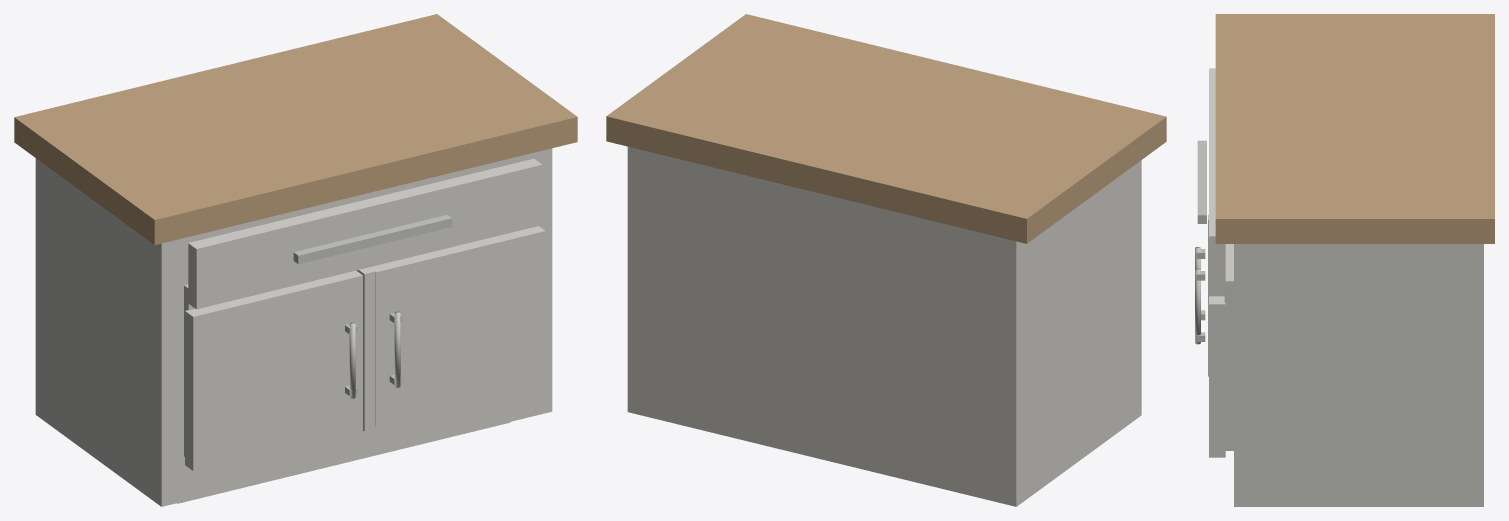
File: Lower_Kitchen_Cabinet.glb
3 views of the same model, side by side, from view 1: azimuth 30°, elevation 25°; view 2: azimuth 150°, elevation 25°; view 3: azimuth 270°, elevation 25° (orthographic).
Parts seen in each view (by area): view 1: SM_Kuechenschrank_Unten_Arbeitsplatte, SM_Kuechenschrank_Unten_Korpus, SM_Kuechenschrank_Unten_Tuer_Links, SM_Kuechenschrank_Unten_Tuer_Rechts, SM_Kuechenschrank_Unten_Schublade, SM_Kuechenschrank_Unten_Griff_Schublade, SM_Kuechenschrank_Unten_Trennstueck_Mitte; view 2: SM_Kuechenschrank_Unten_Korpus, SM_Kuechenschrank_Unten_Arbeitsplatte; view 3: SM_Kuechenschrank_Unten_Korpus, SM_Kuechenschrank_Unten_Arbeitsplatte, SM_Kuechenschrank_Unten_Tuer_Rechts, SM_Kuechenschrank_Unten_Schublade, SM_Kuechenschrank_Unten_Innenraum, SM_Kuechenschrank_Unten_Griff_Schublade, SM_Kuechenschrank_Unten_Griff_Rechts_Stange.
Boxes of the visible parts, bbox=[...] form: SM_Kuechenschrank_Unten_Arbeitsplatte: bbox=[14, 14, 577, 244]; SM_Kuechenschrank_Unten_Korpus: bbox=[35, 148, 552, 506]; SM_Kuechenschrank_Unten_Tuer_Links: bbox=[185, 270, 362, 470]; SM_Kuechenschrank_Unten_Tuer_Rechts: bbox=[370, 226, 545, 426]; SM_Kuechenschrank_Unten_Schublade: bbox=[188, 158, 542, 309]; SM_Kuechenschrank_Unten_Griff_Schublade: bbox=[293, 214, 452, 264]; SM_Kuechenschrank_Unten_Trennstueck_Mitte: bbox=[356, 267, 375, 431]; SM_Kuechenschrank_Unten_Korpus: bbox=[627, 146, 1141, 506]; SM_Kuechenschrank_Unten_Arbeitsplatte: bbox=[606, 14, 1166, 243]; SM_Kuechenschrank_Unten_Korpus: bbox=[1234, 244, 1483, 506]; SM_Kuechenschrank_Unten_Arbeitsplatte: bbox=[1215, 14, 1494, 243]; SM_Kuechenschrank_Unten_Tuer_Rechts: bbox=[1209, 296, 1225, 457]; SM_Kuechenschrank_Unten_Schublade: bbox=[1209, 68, 1225, 296]; SM_Kuechenschrank_Unten_Innenraum: bbox=[1224, 244, 1233, 450]; SM_Kuechenschrank_Unten_Griff_Schublade: bbox=[1197, 140, 1206, 223]; SM_Kuechenschrank_Unten_Griff_Rechts_Stange: bbox=[1195, 268, 1200, 344].
Bounding box in the file's own units: 1.32 × 0.9275 × 0.816.
